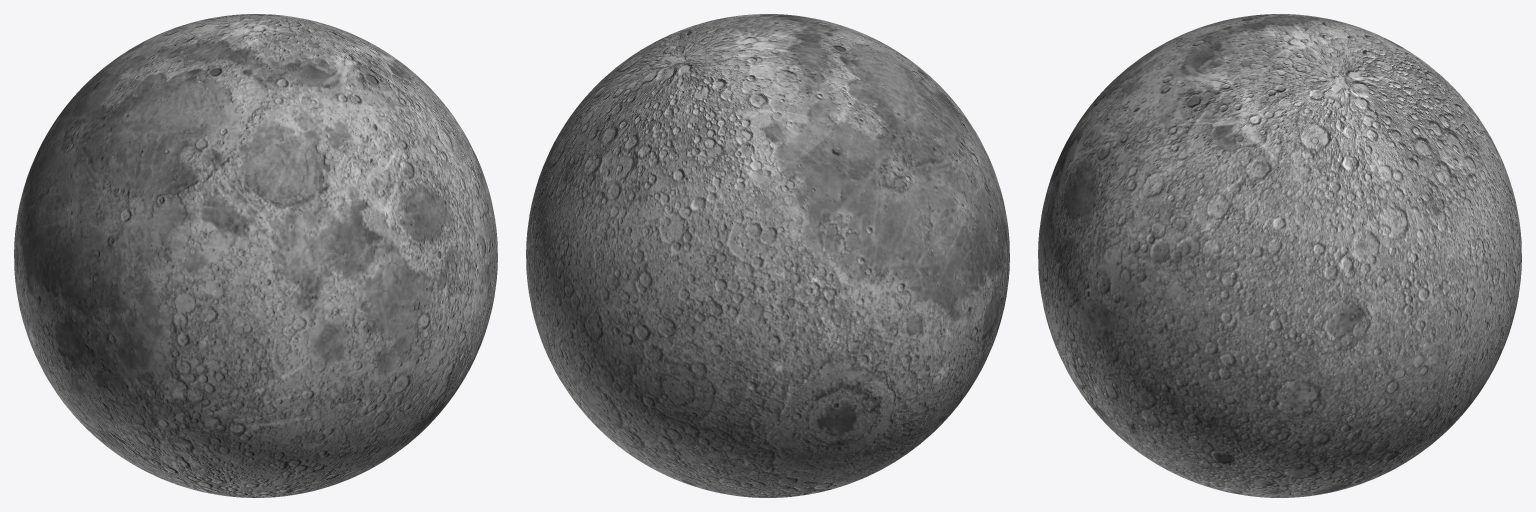
Rendered from Moon.fbx.
3 views of the same model, side by side, from view 1: azimuth 30°, elevation 25°; view 2: azimuth 150°, elevation 25°; view 3: azimuth 270°, elevation 25° (orthographic).
Parts seen in each view (by area): view 1: Sphere; view 2: Sphere; view 3: Sphere.
Boxes of the visible parts, x1=… form: Sphere: x1=14, y1=14, x2=497, y2=497; Sphere: x1=526, y1=14, x2=1009, y2=497; Sphere: x1=1038, y1=14, x2=1521, y2=497.
Bounding box in the file's own units: 2 × 2 × 2.
